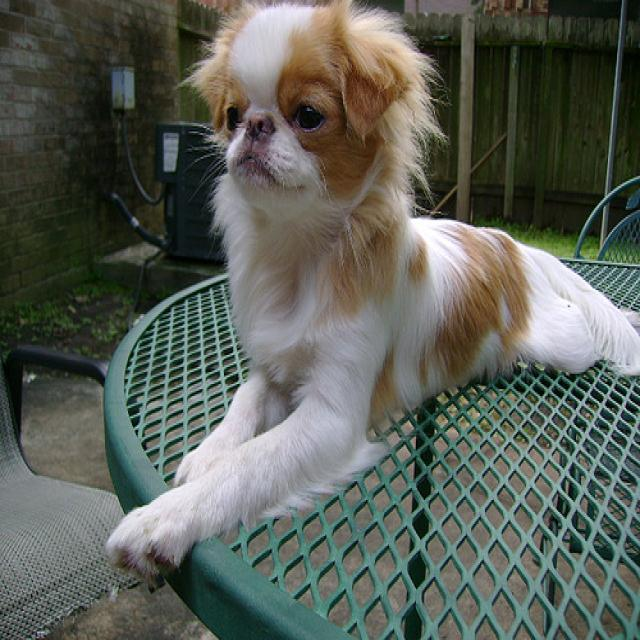dog: (190, 0, 412, 217)
